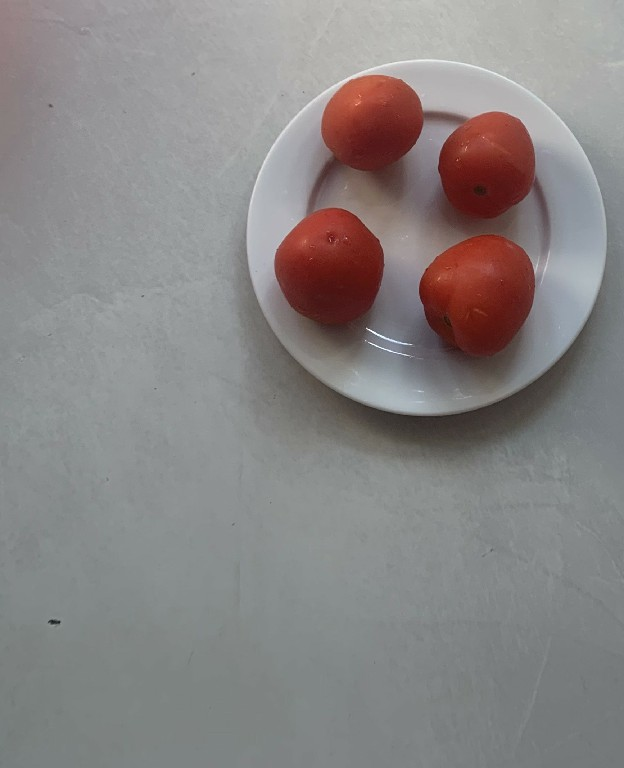OK: (417, 231, 535, 364), (269, 200, 385, 326), (436, 110, 531, 220), (324, 73, 424, 170)
